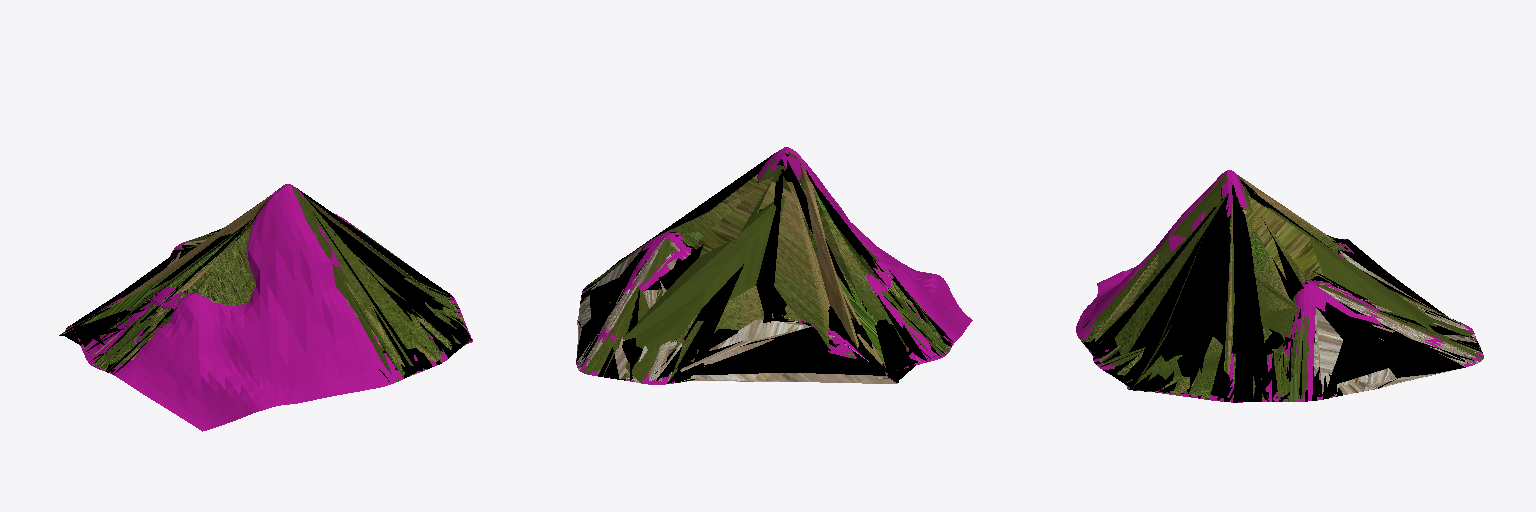
3 views of the same model, side by side, from view 1: azimuth 30°, elevation 25°; view 2: azimuth 150°, elevation 25°; view 3: azimuth 270°, elevation 25° (orthographic).
Visible parts, largest first — view 1: Plane02, Plane01; view 2: Plane01, Plane02, Object01, Box01; view 3: Plane01, Plane02, Box01, Object01.
Boxes of the visible parts, x1=… form: Plane02: x1=59, y1=184, x2=472, y2=431; Plane01: x1=60, y1=185, x2=472, y2=381; Plane01: x1=576, y1=149, x2=952, y2=383; Plane02: x1=576, y1=147, x2=972, y2=384; Object01: x1=577, y1=238, x2=897, y2=384; Box01: x1=577, y1=245, x2=645, y2=348; Plane01: x1=1078, y1=173, x2=1483, y2=402; Plane02: x1=1076, y1=170, x2=1483, y2=402; Box01: x1=1313, y1=304, x2=1449, y2=395; Object01: x1=1317, y1=239, x2=1481, y2=399.
Size of the model in its own units: 100 by 49.31 by 103.
5 materials, 2 textured.